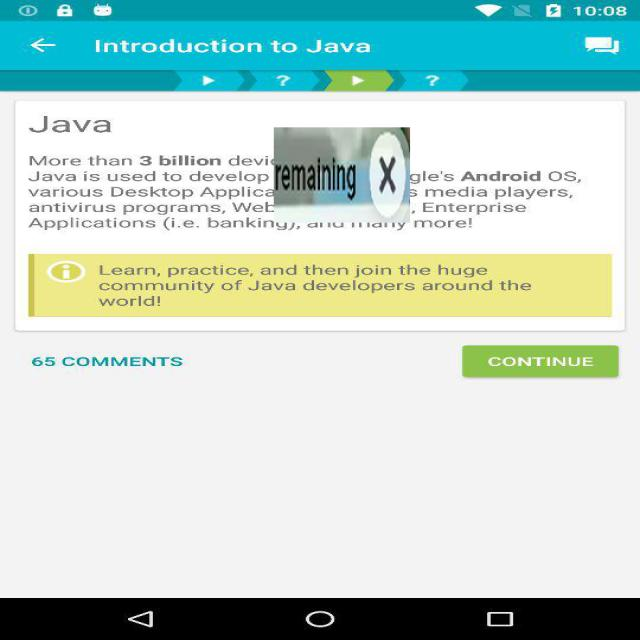misdirection: (274, 127, 410, 223)
